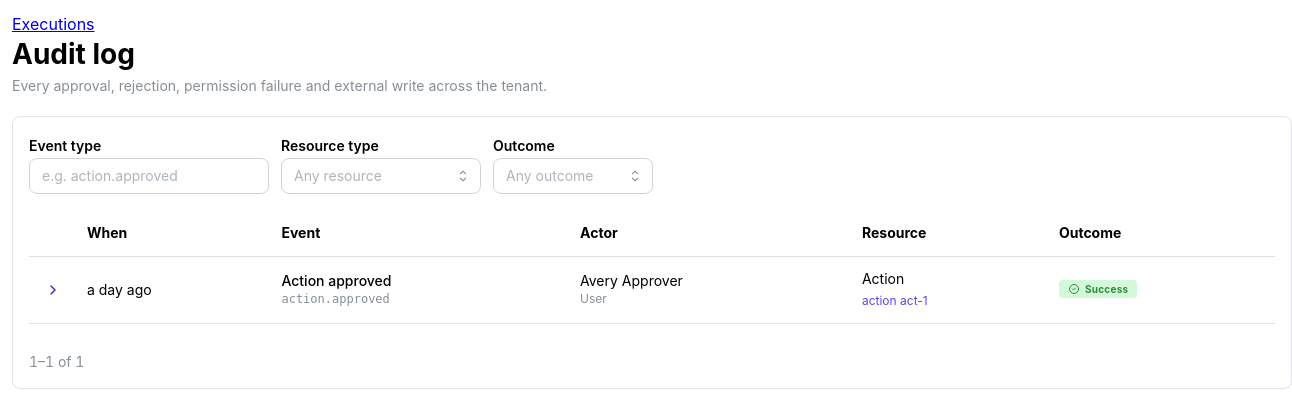
Test case: (b) list search boxes follow Back/Forward navigation › Audit log: a link to ?event_type=… on the mounted page shows that value in the event-type box
Expected: the field labelled "Event type" is empty, [29,158,269,194]
Step 1. Click the link "Executions" → click(53, 24), box [12,14,94,34]
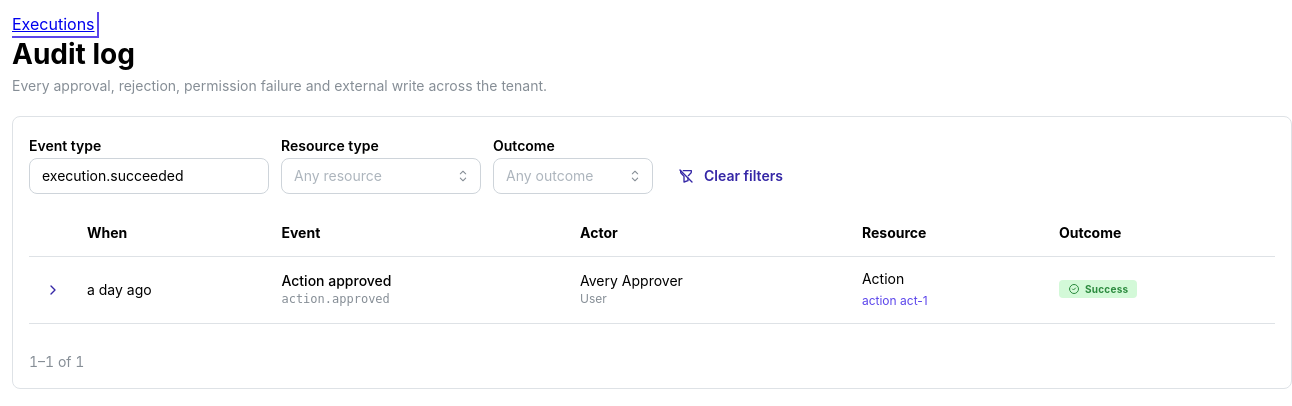
Now the field labelled "Event type" holds "execution.succeeded", box [29,158,269,194]
